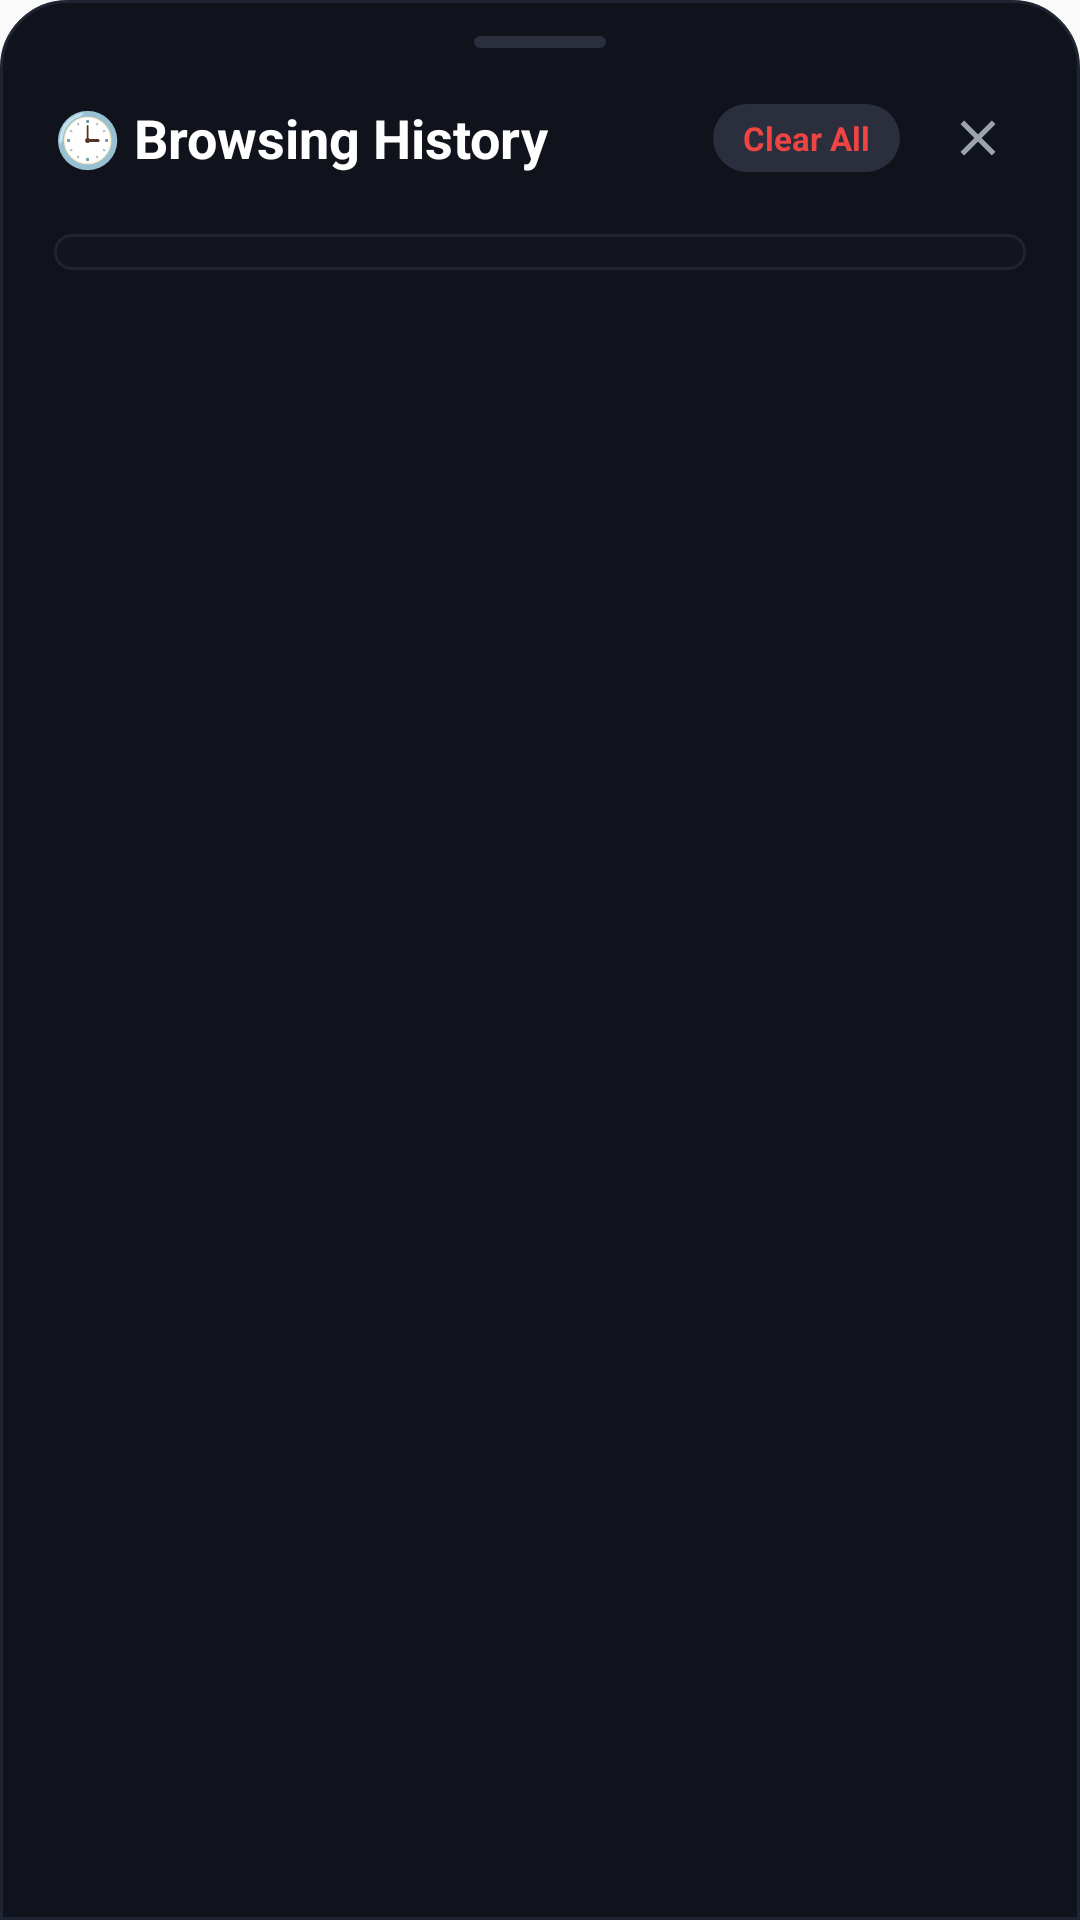

Locate icon controls on the screen. Image size 1080w x 1920h, boxes as [x1, y1, x2, y2].
close: [960, 120, 996, 156]
